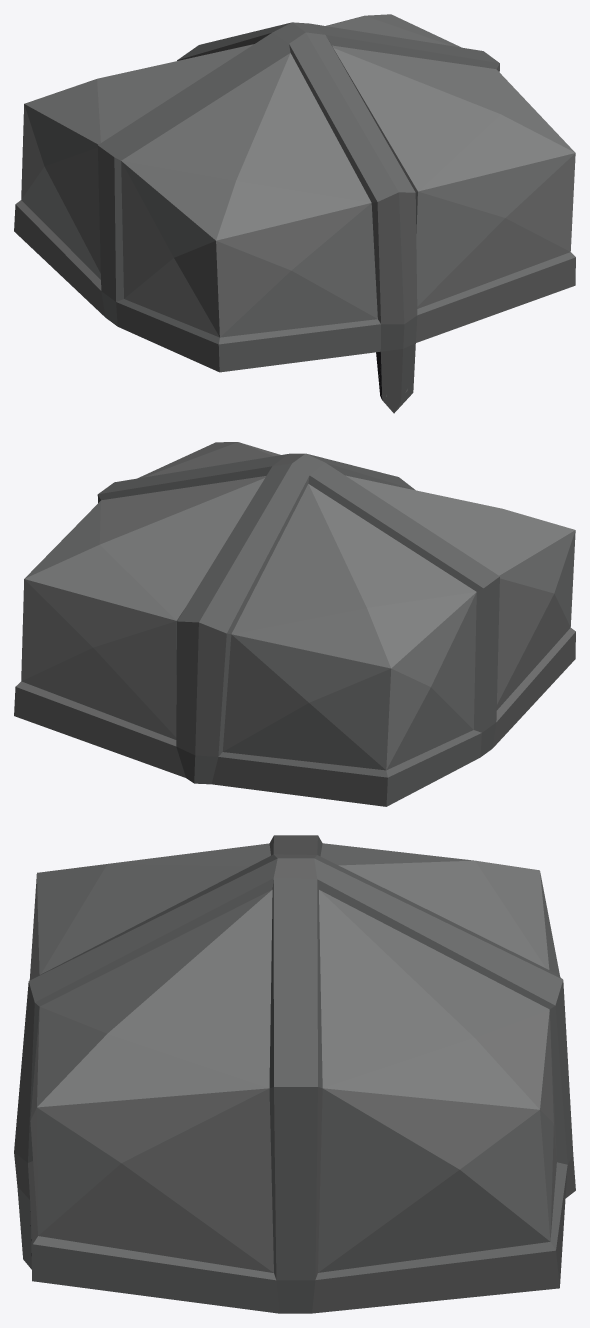
Rendered from Character IronHead.fbx.
3 renders of one model, top to bottom at view 1: azimuth 30°, elevation 25°; view 2: azimuth 150°, elevation 25°; view 3: azimuth 270°, elevation 25°, orthographic. The views are drawn at different scales.
Parts seen in each view (by area): view 1: IronHead; view 2: IronHead; view 3: IronHead.
Boxes of the visible parts, box(x1,y1,x2,y2) form: IronHead: box(14, 14, 575, 413); IronHead: box(14, 442, 575, 806); IronHead: box(14, 835, 575, 1313).
Size of the model in its own units: 167 by 129 by 156.
